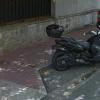Motorcycle: (41, 23, 100, 71)
